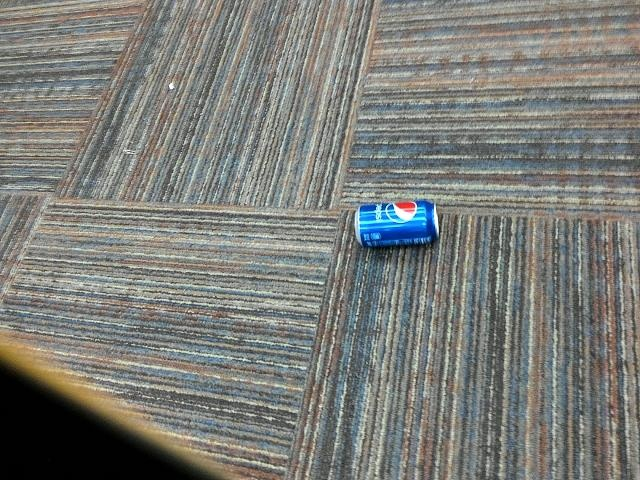can: (346, 196, 452, 261)
